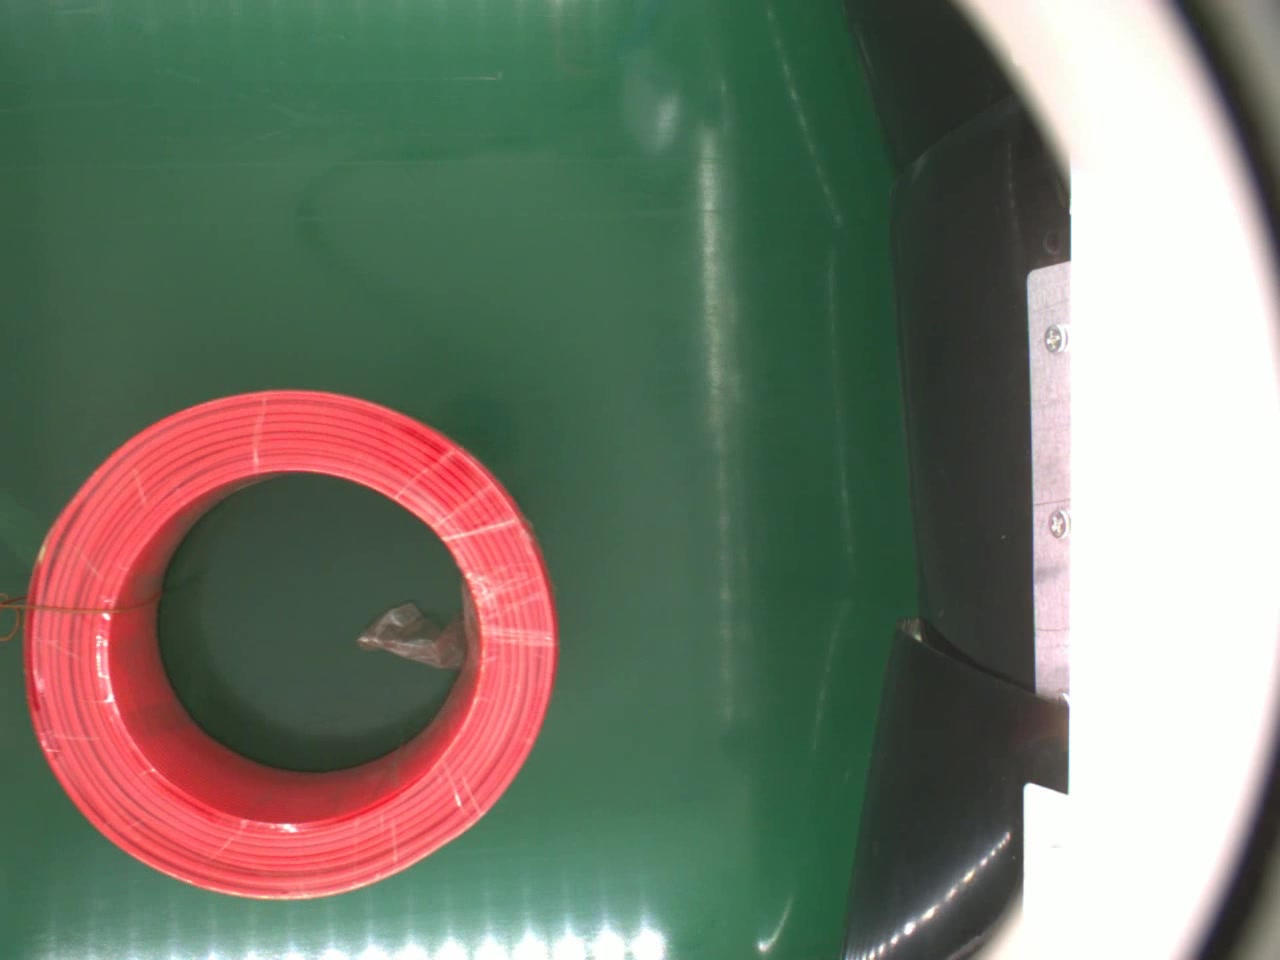red: (24, 383, 555, 894)
